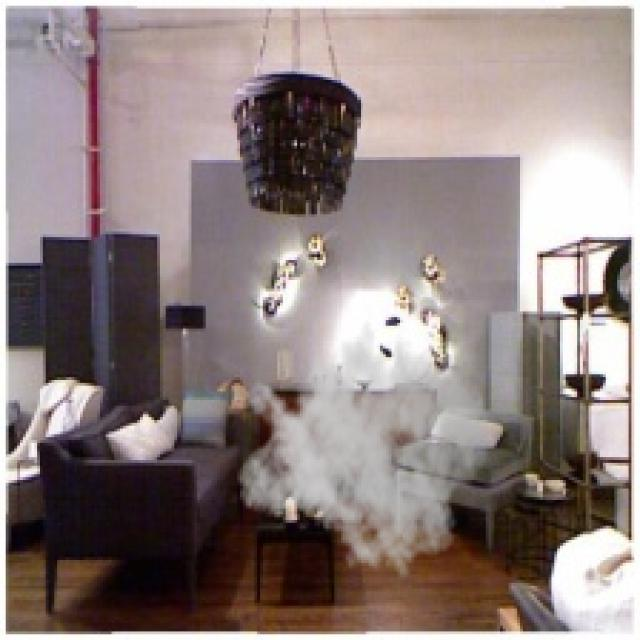smoke: (237, 306, 492, 580)
